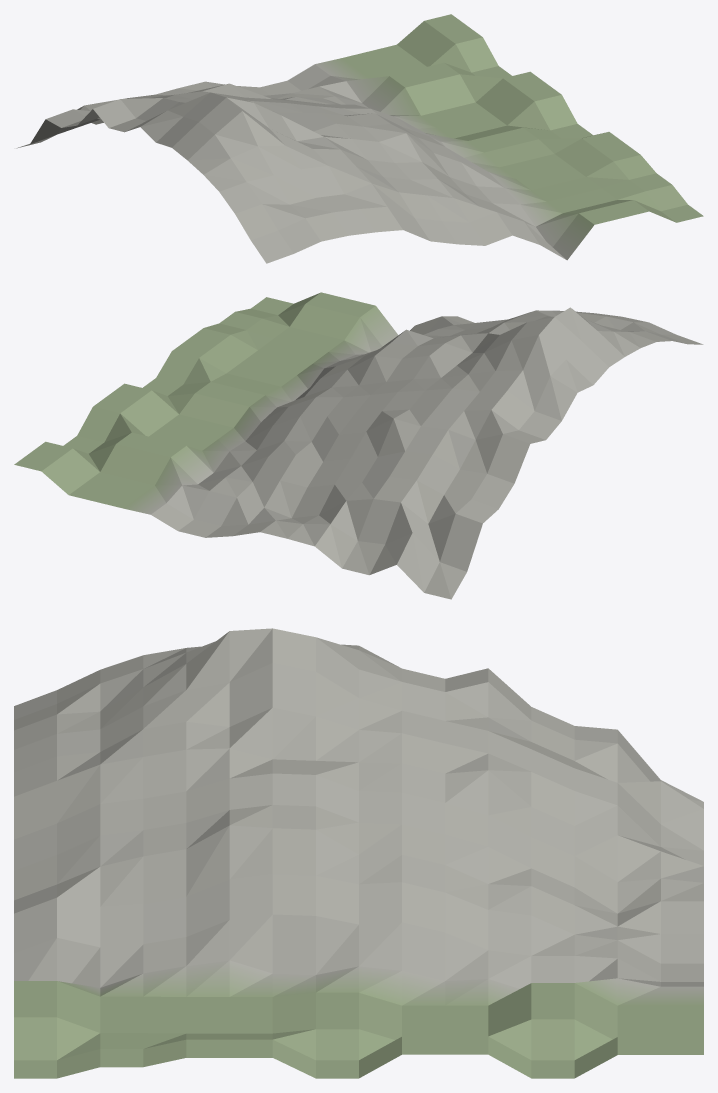
3 views of the same model, one above another, from view 1: azimuth 30°, elevation 25°; view 2: azimuth 150°, elevation 25°; view 3: azimuth 270°, elevation 25° (orthographic). The views are drawn at different scales.
Bounding box in the file's own units: 32 × 10.74 × 32.
